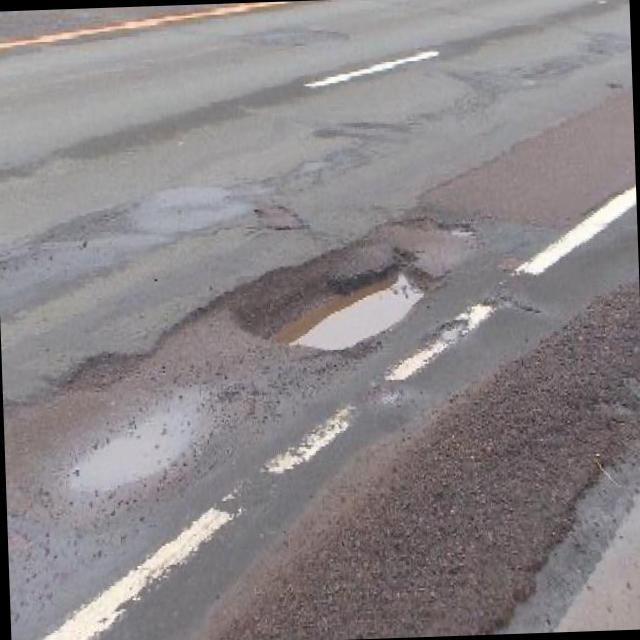Pothole: (186, 226, 423, 349), (64, 346, 162, 416)
